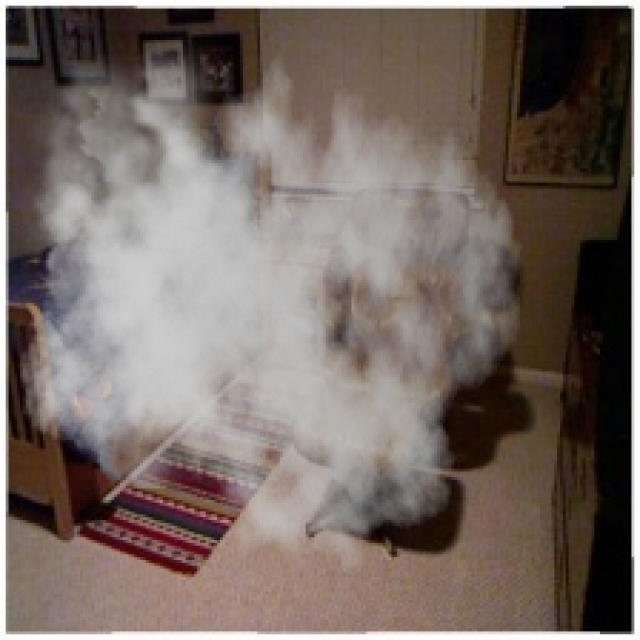smoke: (3, 20, 523, 574)
